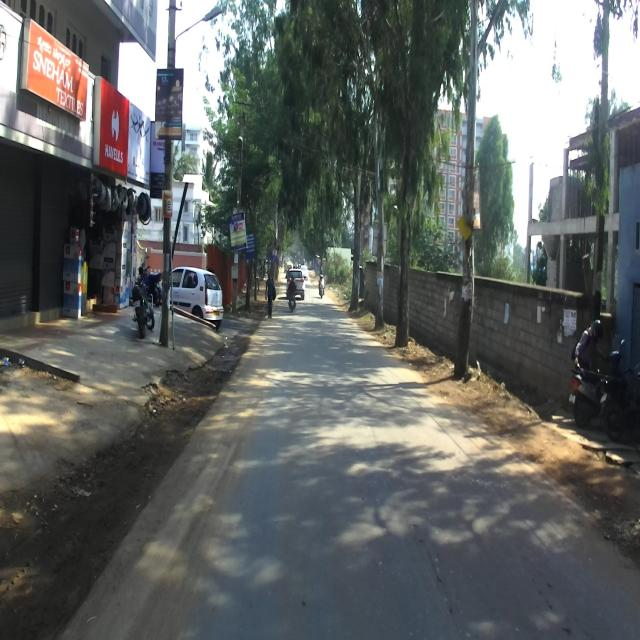car: (160, 265, 225, 328), (285, 268, 306, 300)
motorcycle: (599, 365, 640, 442), (131, 264, 154, 337)
scooter: (569, 339, 625, 430)
